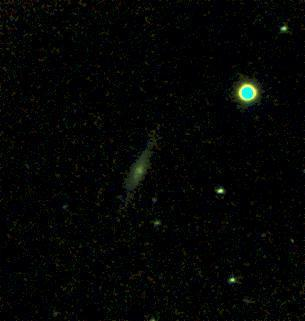star: (210, 174, 240, 204)
